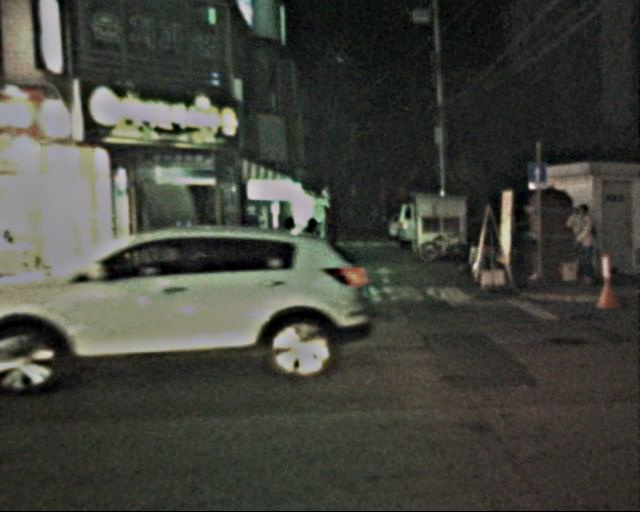person: (561, 202, 599, 297)
